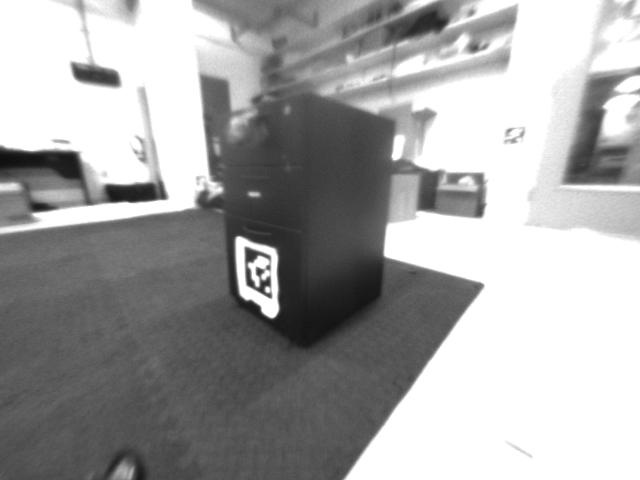drawer: (219, 111, 271, 154)
